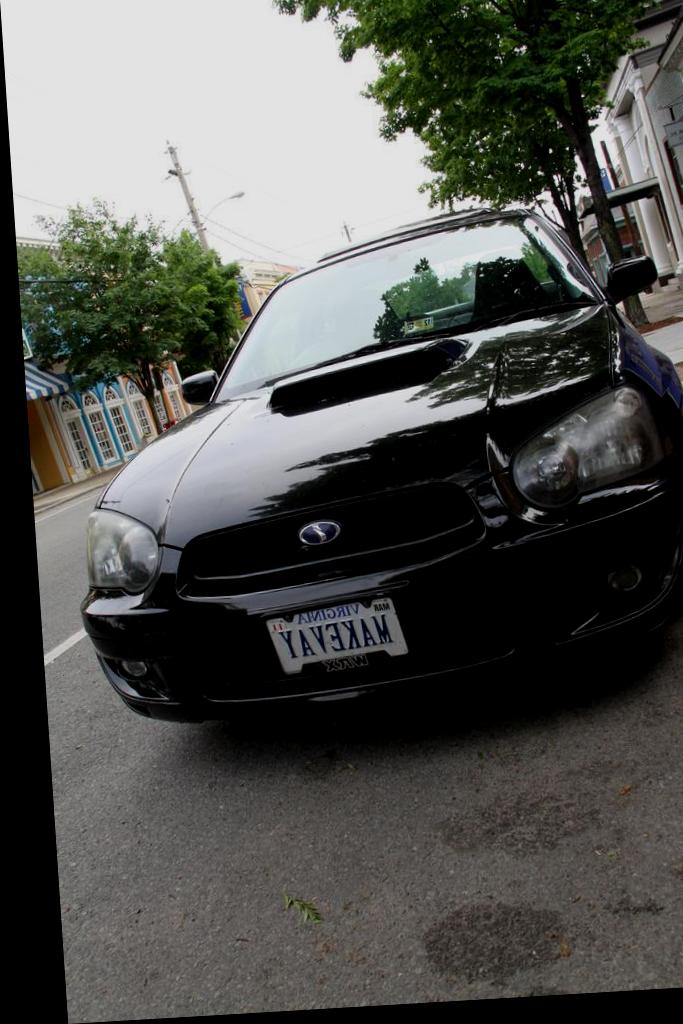License_Plate: (262, 594, 409, 678)
